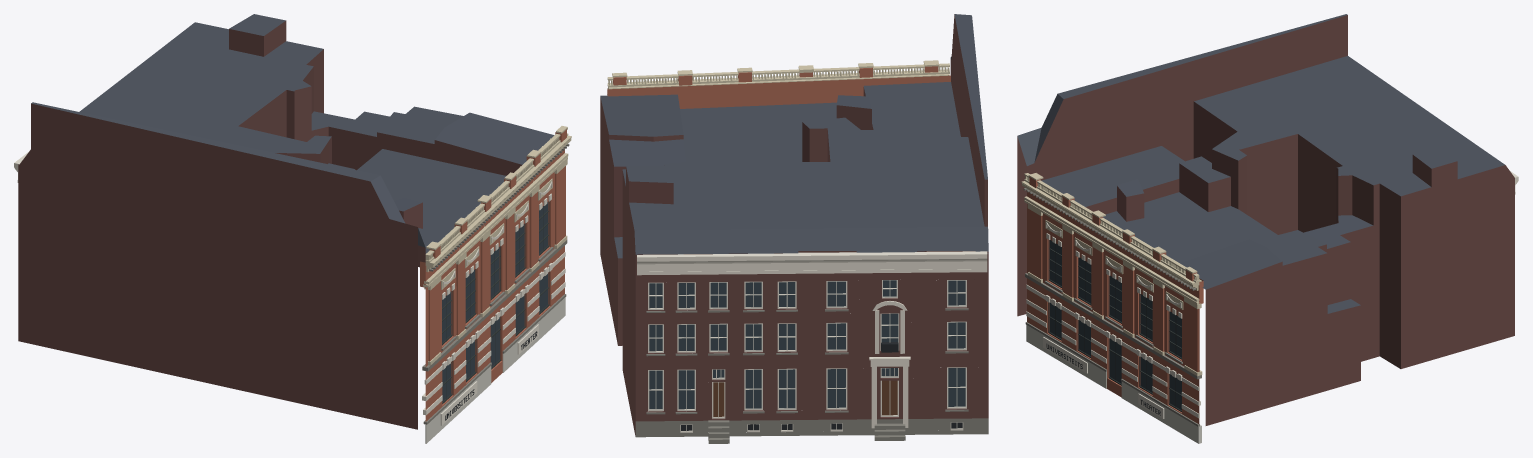
File: universiteitstheater.glb
3 renders of one model, left to right at view 1: azimuth 30°, elevation 25°; view 2: azimuth 150°, elevation 25°; view 3: azimuth 270°, elevation 25°, orthographic. The views are drawn at different scales.
Visible parts, largest first — view 1: universiteitstheater; view 2: universiteitstheater; view 3: universiteitstheater.
Boxes of the visible parts, x1,y1,x2,y2 form: universiteitstheater: (14,14,571,443); universiteitstheater: (600,14,988,443); universiteitstheater: (1017,14,1518,443).
Bounding box in the file's own units: 39.49 × 21.35 × 41.56.
